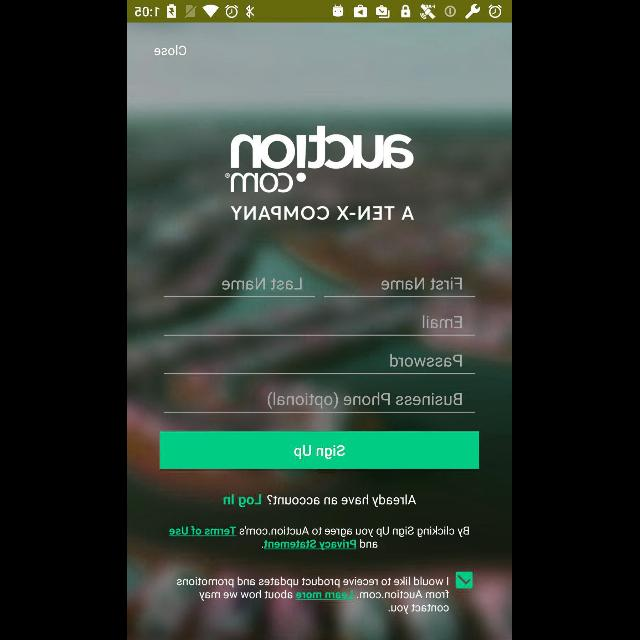backgroundimage: (128, 22, 512, 640)
checkbox: (456, 571, 474, 589)
image: (226, 125, 414, 193)
input: (164, 392, 476, 413), (164, 316, 476, 336), (164, 354, 476, 374), (324, 276, 476, 298), (164, 278, 316, 298)
text: (178, 576, 450, 614), (170, 525, 470, 551), (269, 392, 463, 408), (224, 494, 416, 508), (231, 206, 415, 220), (391, 354, 463, 368), (382, 278, 462, 290), (222, 278, 302, 290), (423, 316, 462, 328), (155, 46, 187, 56)
textbutton: (160, 431, 480, 469), (264, 539, 358, 551), (170, 526, 238, 536), (295, 590, 355, 600), (224, 494, 262, 508), (155, 46, 187, 56)
uppertaskbar: (128, 1, 512, 23)
